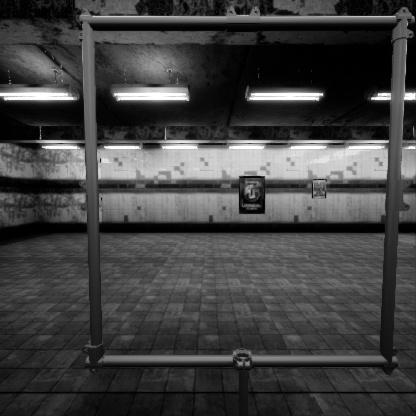gate: (82, 43, 416, 403)
